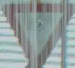Give way: (2, 1, 70, 64)
